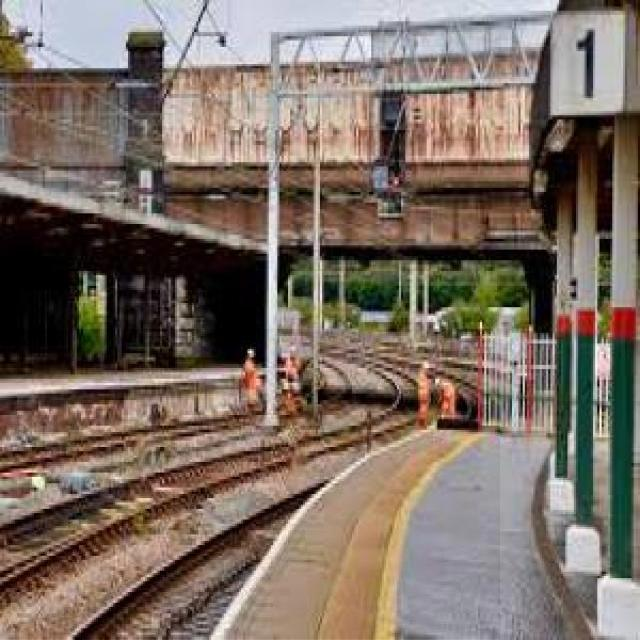rail: (1, 331, 501, 640)
